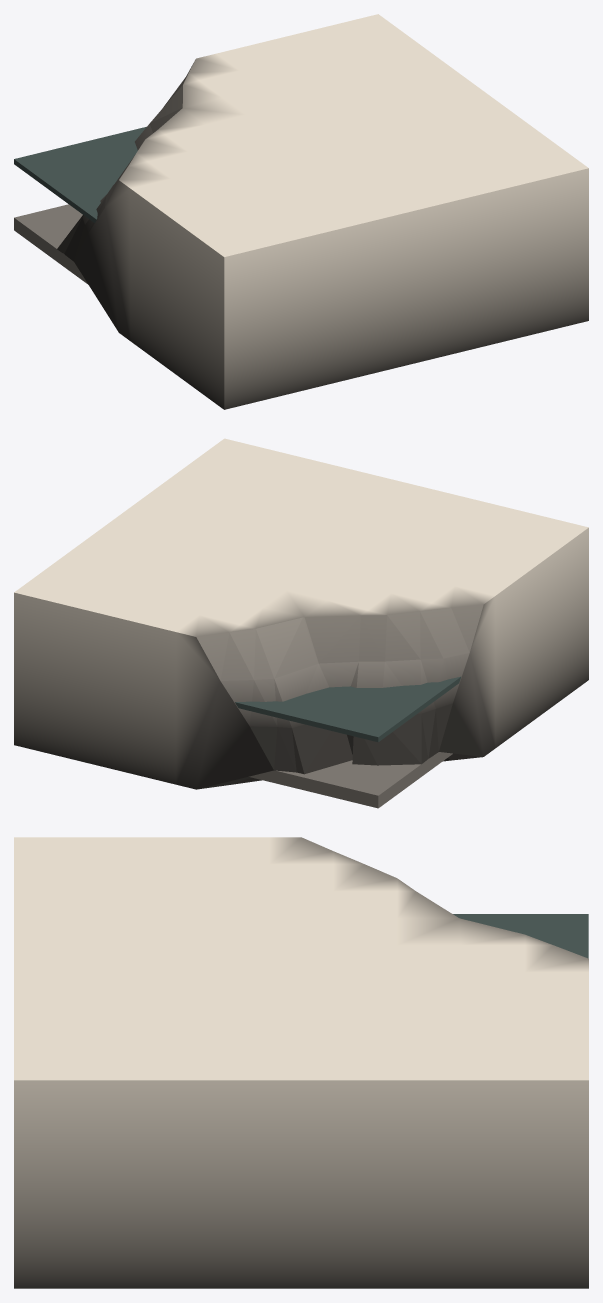
File: SM_VKI_Ground_Stream_OOOX_Q11.fbx
3 renders of one model, top to bottom at view 1: azimuth 30°, elevation 25°; view 2: azimuth 150°, elevation 25°; view 3: azimuth 270°, elevation 25°, orthographic. The views are drawn at different scales.
Visible parts, largest first — view 1: SM_VKI_Ground_Stream_OOOX_Q11.001; view 2: SM_VKI_Ground_Stream_OOOX_Q11.001; view 3: SM_VKI_Ground_Stream_OOOX_Q11.001.
Boxes of the visible parts, box(x1,y1,x2,y2) form: SM_VKI_Ground_Stream_OOOX_Q11.001: box(14, 14, 588, 409); SM_VKI_Ground_Stream_OOOX_Q11.001: box(14, 438, 588, 808); SM_VKI_Ground_Stream_OOOX_Q11.001: box(14, 837, 588, 1288).
Bounding box in the file's own units: 1.5 × 0.6 × 1.5.
